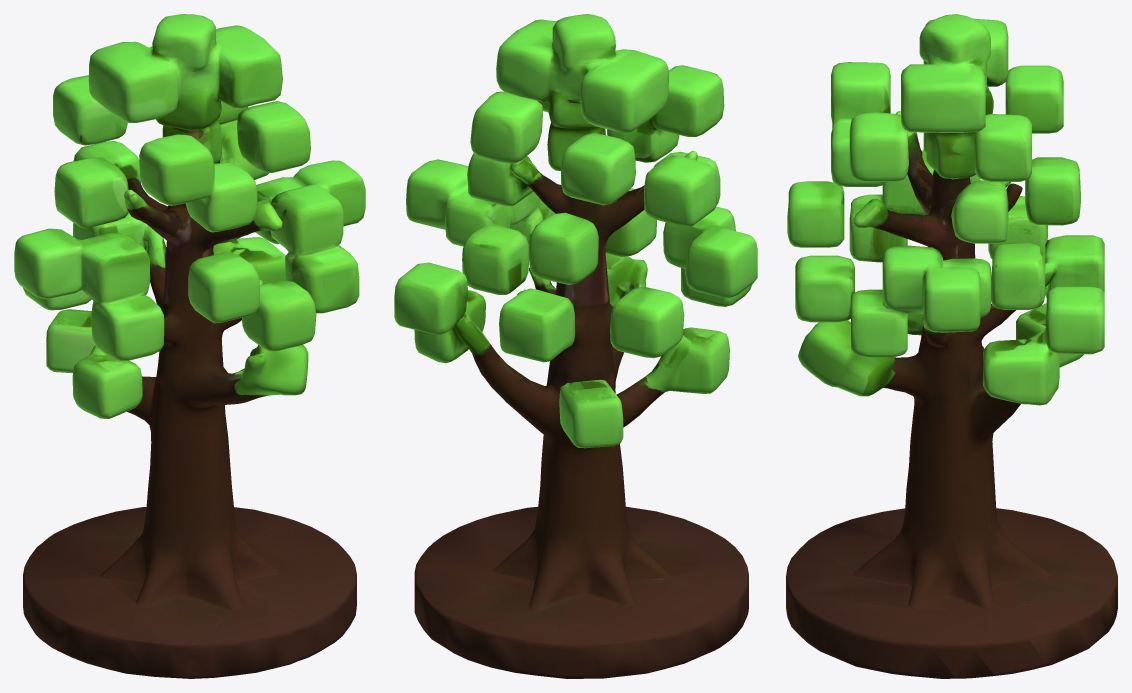
The model's file is tree1.glb.
3 renders of one model, left to right at view 1: azimuth 30°, elevation 25°; view 2: azimuth 150°, elevation 25°; view 3: azimuth 270°, elevation 25°, orthographic.
Size of the model in its own units: 1.12 by 1.91 by 0.9824.
Materials: 1 (1 with a texture image).
